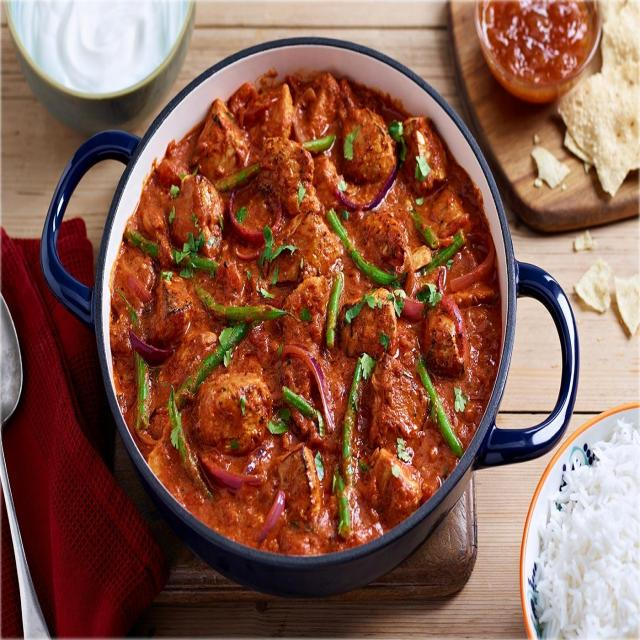chicken: (111, 59, 498, 532)
rice: (530, 439, 640, 640)
